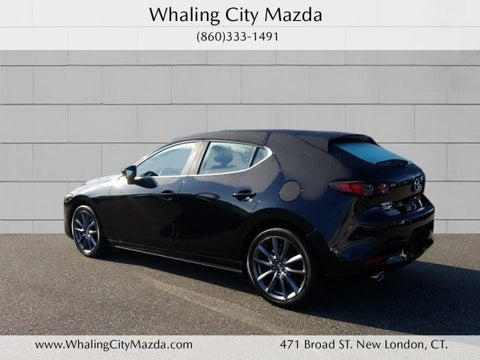Mazda3 Hatchback: (62, 127, 436, 309)
